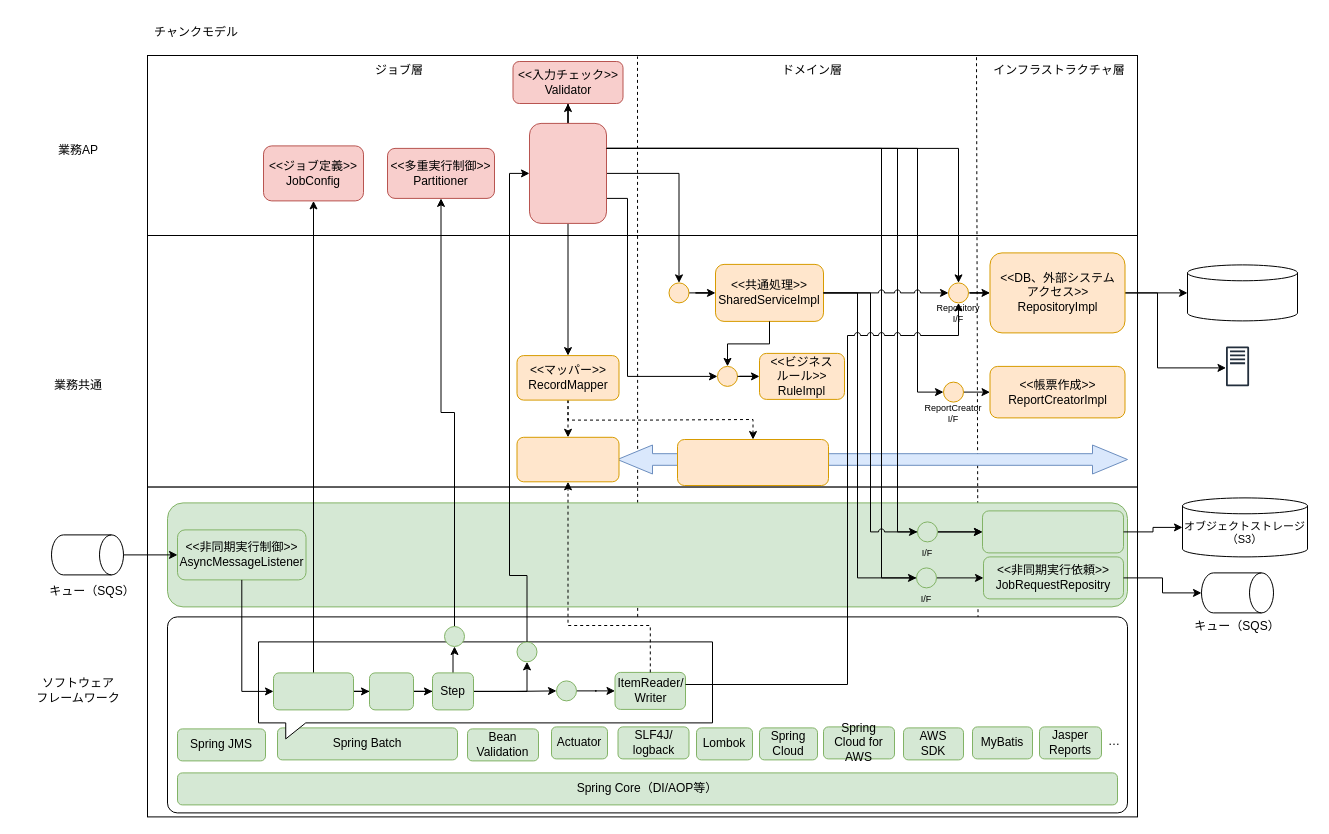
The diagram is 1329 pixels wide and 834 high, and some of its shapes have lost their labels. The shapes that lost their labels are listed below. From the top down, each one's box as (x1, y1, x2, y2) in pixels, then its label:
(528, 122, 606, 223): <<ジョブ ロジック>> Item Processor
(668, 282, 689, 303): Shared Service I/F
(1186, 264, 1298, 321): DB （RDB、DynamoDB）
(716, 365, 738, 386): Rule I/F
(1226, 346, 1249, 386): 外部システム等
(516, 436, 619, 482): <<1行のデータ >> Record
(676, 438, 828, 486): <<ドメインオブジェクト >> Criteria, Entity
(982, 510, 1124, 553): <<オブジェクト ストレージアクセス>> ObjectStorageAccessor
(166, 502, 1128, 607): 拡張Framework機能
(444, 626, 464, 646): Partitioner I/F
(516, 641, 537, 662): ItemProcessor I/F
(272, 672, 354, 710): JobOperator
(368, 672, 414, 710): Job
(556, 680, 576, 701): ItemReader /Writer I/F
(166, 616, 1128, 813): Spring Boot + OSS Library
